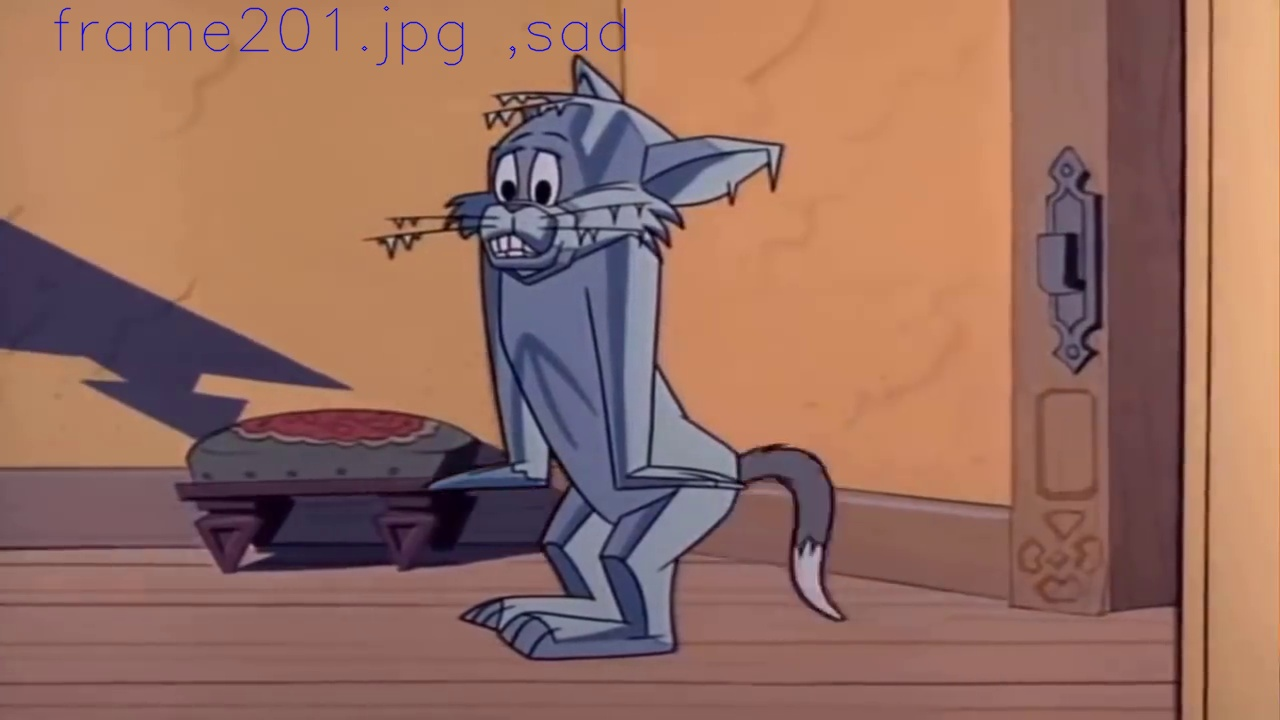sad: (483, 130, 572, 272)
